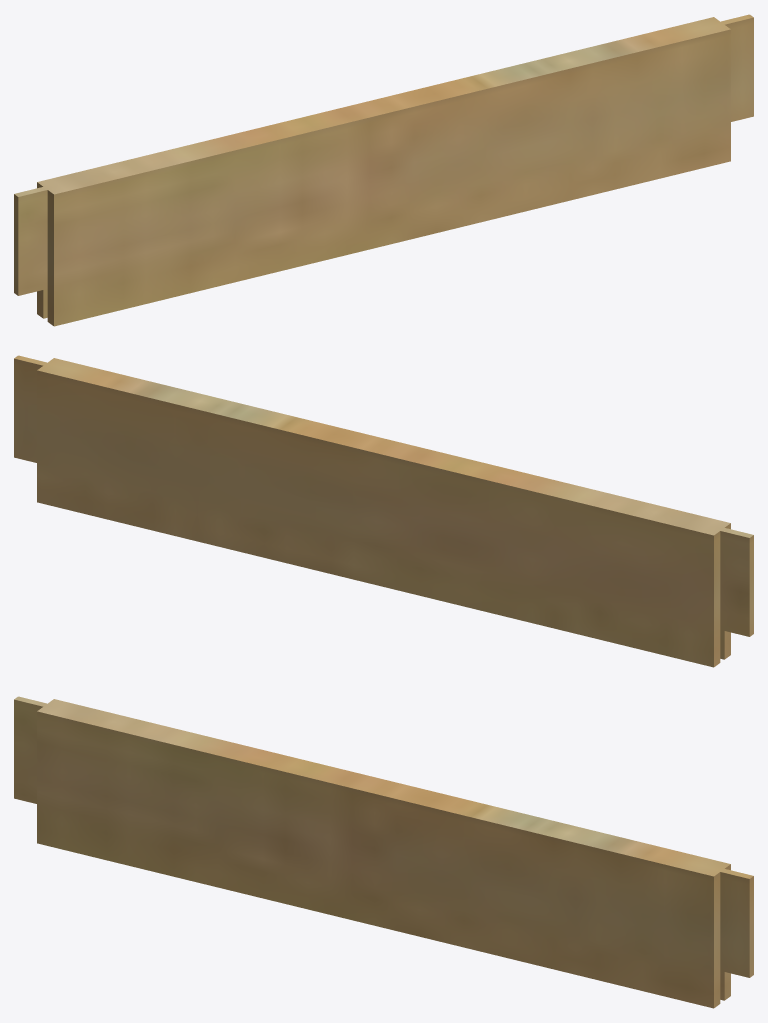
Rendered from original-100.obj.
The picture shows the model from 3 angles, top to bottom: view 1: azimuth 30°, elevation 25°; view 2: azimuth 150°, elevation 25°; view 3: azimuth 330°, elevation 25°; orthographic projection.
Parts seen in each view (by area): view 1: Door_Rail_2/Door_Rail_12/mesh116/mesh116-geometry#mesh116-geomet; view 2: Door_Rail_2/Door_Rail_12/mesh116/mesh116-geometry#mesh116-geomet; view 3: Door_Rail_2/Door_Rail_12/mesh116/mesh116-geometry#mesh116-geomet.
Boxes of the visible parts, left/top/right/bottom form: Door_Rail_2/Door_Rail_12/mesh116/mesh116-geometry#mesh116-geomet: left=14, top=14, right=753, bottom=326; Door_Rail_2/Door_Rail_12/mesh116/mesh116-geometry#mesh116-geomet: left=14, top=355, right=753, bottom=667; Door_Rail_2/Door_Rail_12/mesh116/mesh116-geometry#mesh116-geomet: left=14, top=696, right=753, bottom=1008.
Size of the model in its own units: 0.423 by 0.0725 by 0.0169.
Materials: 1 (1 with a texture image).
